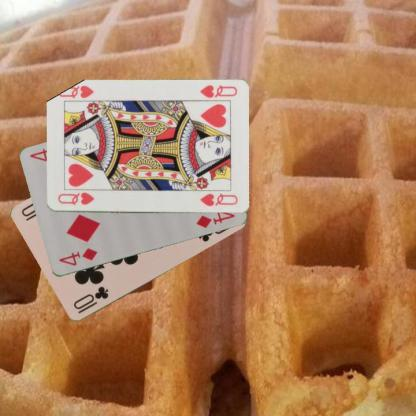10c: (70, 284, 110, 316)
4d: (56, 245, 99, 267)
Qh: (197, 82, 238, 100), (55, 190, 95, 206)
